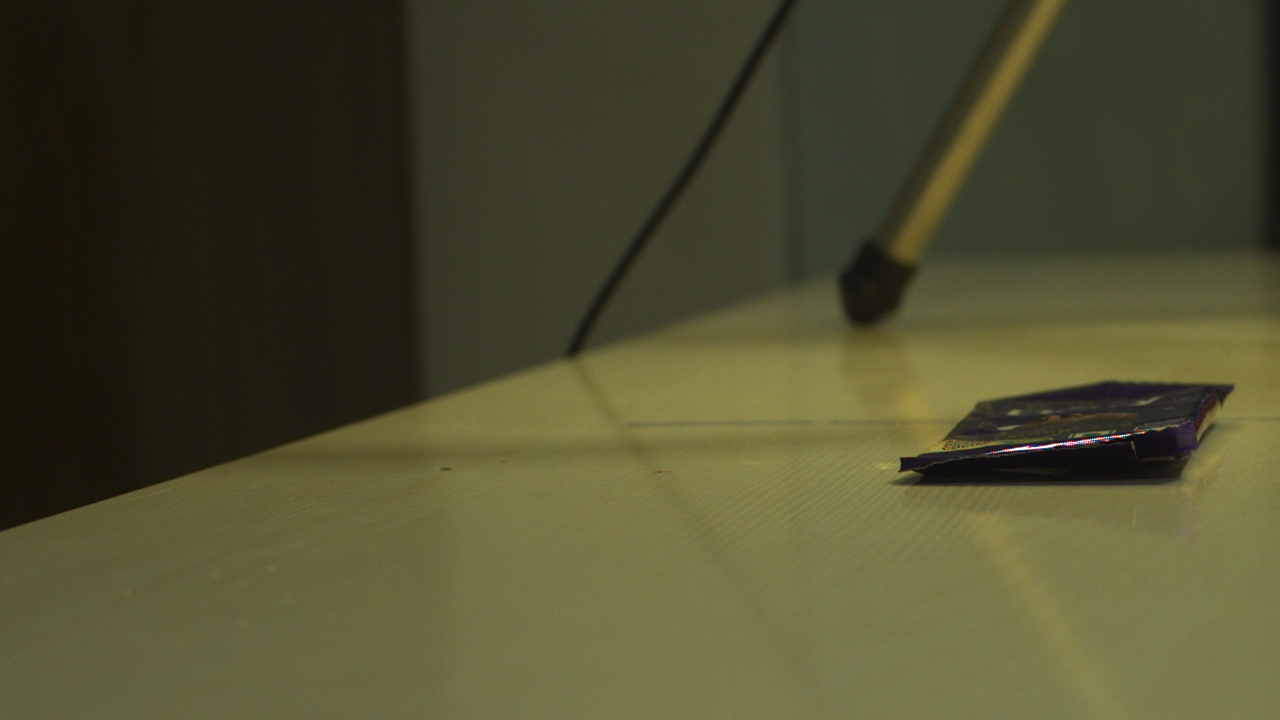Good: (933, 430, 1179, 479)
